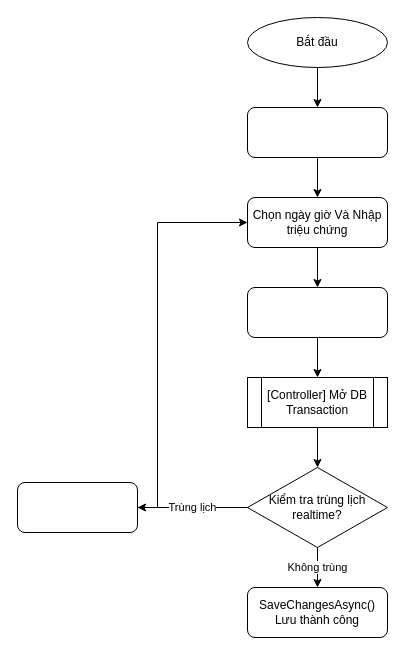
Some shapes in this 405 by 655 pixel diagram are drawn without their labels. The shapes that lost their labels are listed below. From the top down, each one's centre as x and y in pixels, then its label:
At point 317,132: "Tìm kiếm Bác sĩ / Chuyên khoa".
At point 317,312: "Gửi Form đặt lịch".
At point 77,507: "Báo lỗi trùng giờ".
